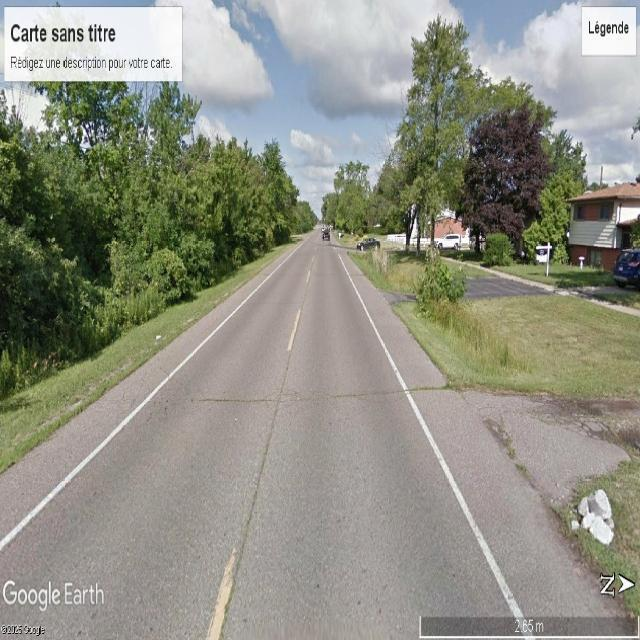GRIETA: (218, 372, 286, 639), (336, 390, 405, 397), (200, 399, 273, 402)
